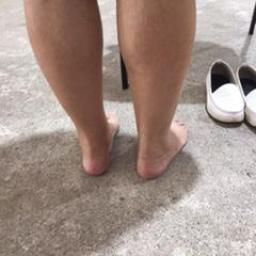Back View -Both Feet-: (50, 93, 197, 190)
